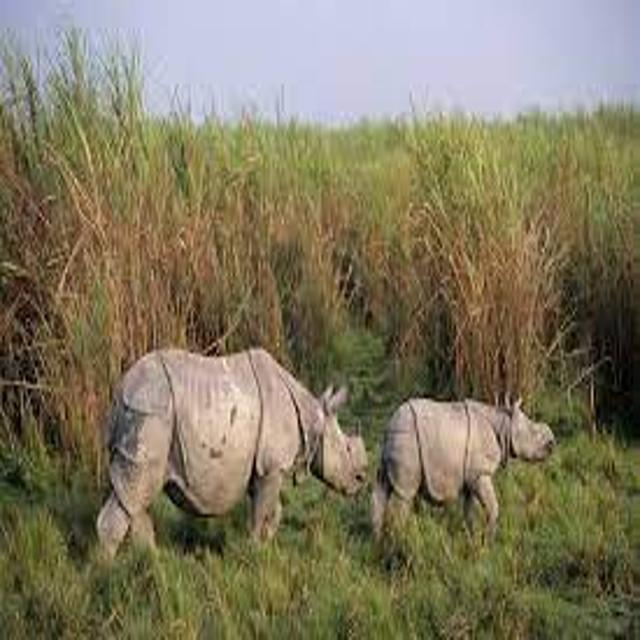rhino: (60, 311, 394, 593), (349, 355, 568, 569)
